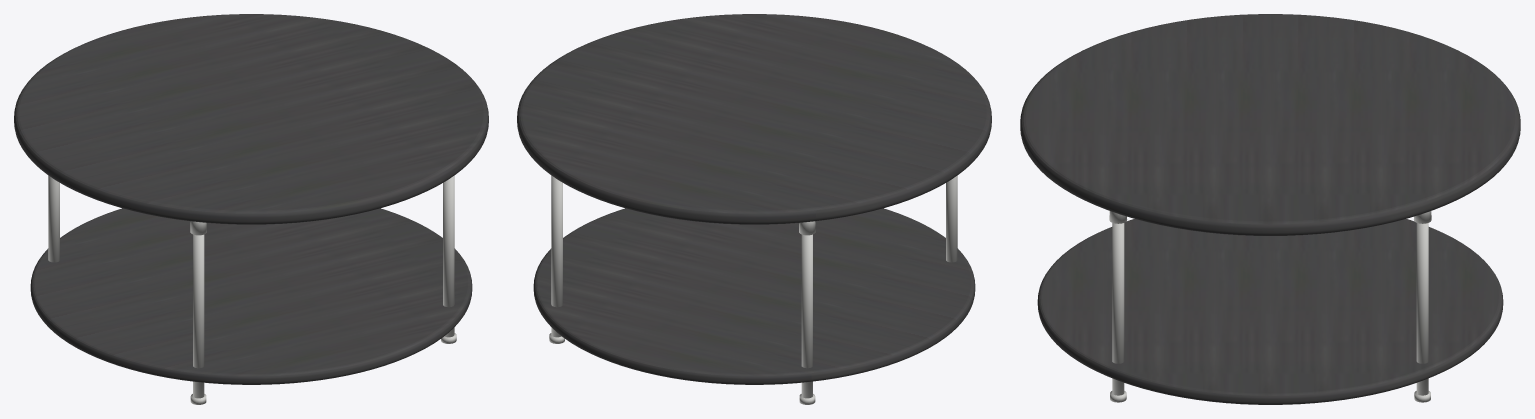
File: noval-table-v2.glb
3 renders of one model, left to right at view 1: azimuth 30°, elevation 25°; view 2: azimuth 150°, elevation 25°; view 3: azimuth 270°, elevation 25°, orthographic. The views are drawn at different scales.
Parts seen in each view (by area): view 1: top, shelf, leg2, leg3, leg1; view 2: top, shelf, leg1, leg0, leg2; view 3: top, shelf, leg0, leg3.
Boxes of the visible parts, box(x1,y1,x2,y2) form: top: box(14, 14, 488, 224); shelf: box(30, 208, 472, 384); leg2: box(193, 234, 204, 398); leg3: box(443, 175, 454, 337); leg1: box(48, 175, 59, 262); top: box(517, 14, 991, 224); shelf: box(533, 208, 975, 384); leg1: box(801, 234, 812, 398); leg0: box(551, 175, 562, 337); leg2: box(946, 175, 957, 262); top: box(1020, 14, 1520, 235); shelf: box(1037, 219, 1503, 404); leg0: box(1416, 223, 1428, 395); leg3: box(1112, 223, 1124, 395).
Bounding box in the file's own units: 0.9 × 0.43 × 0.9.
2 materials, 1 textured.
